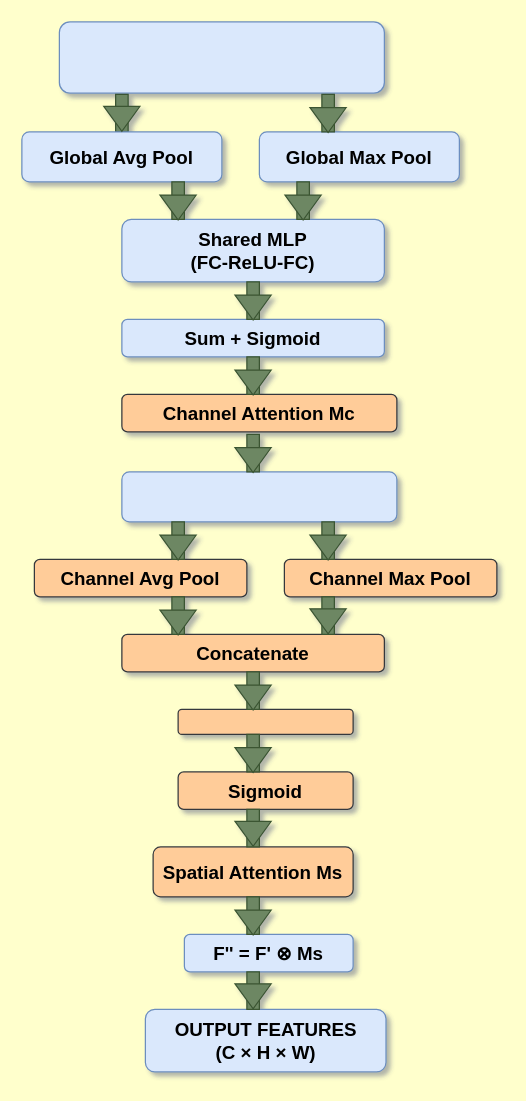
Some shapes in this 526 by 1101 pixel diagram are drawn without their labels. The shapes that lost their labels are listed below. From the top down, each one's centre as x and y in pixels, then its label:
At point 221,57: "INPUT FEATURE MAP F (C × H × W)".
At point 259,496: "F' = F ⊗ Mc".
At point 265,721: "Conv 7×7".
